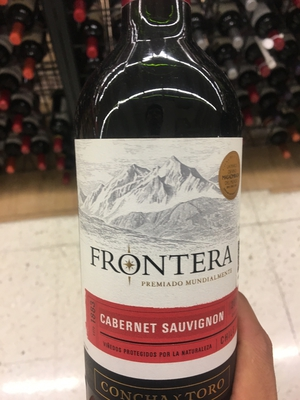frontera cabernet sauvignon: (83, 17, 250, 400)
